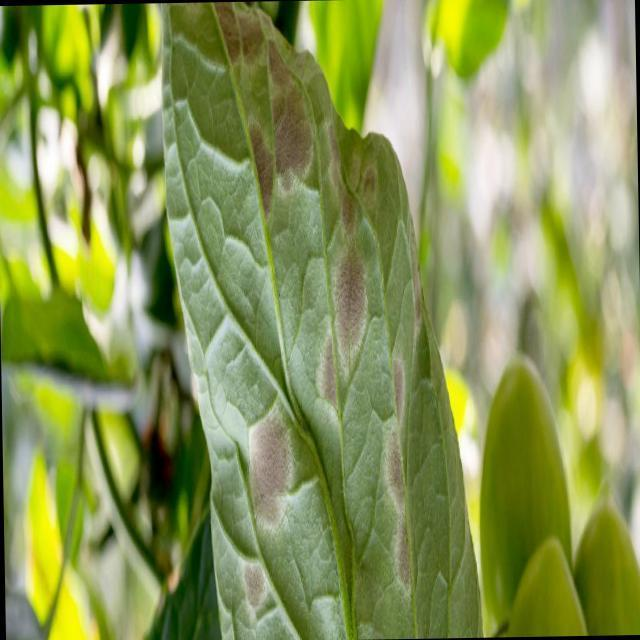Mosaic Virus: (211, 0, 428, 627)
